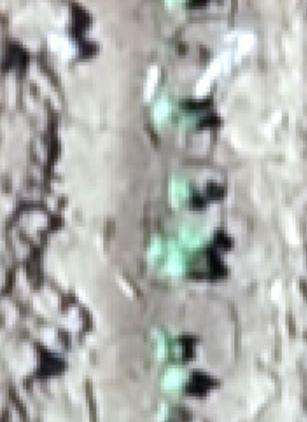cotton: (150, 234, 185, 275), (167, 176, 196, 207), (151, 96, 175, 130), (157, 333, 184, 362), (178, 228, 205, 256), (163, 368, 186, 394), (180, 111, 199, 133), (165, 1, 188, 10)
